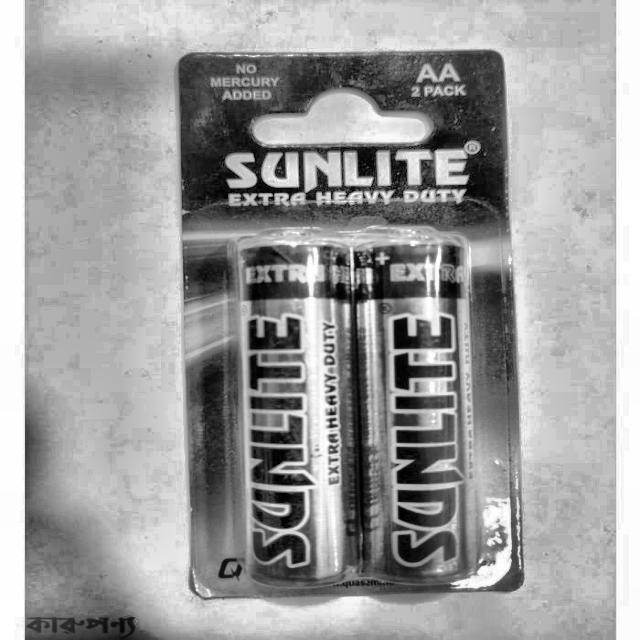drycell: (228, 224, 358, 591), (356, 224, 479, 596)
